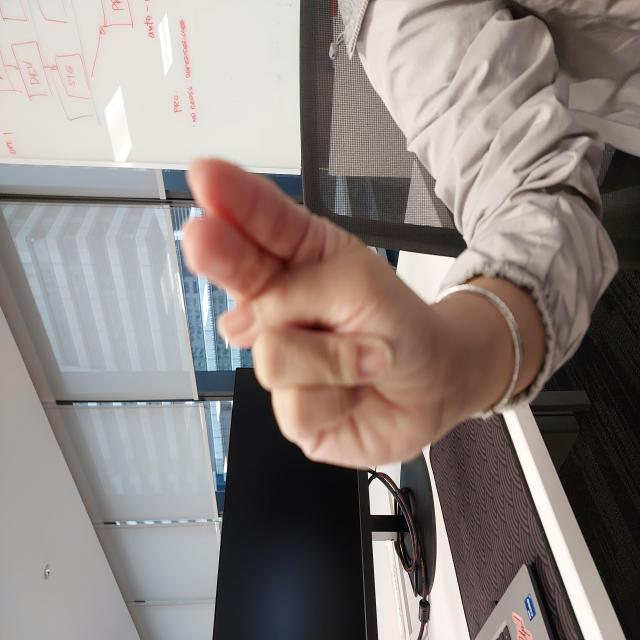N: (170, 182, 488, 436)
